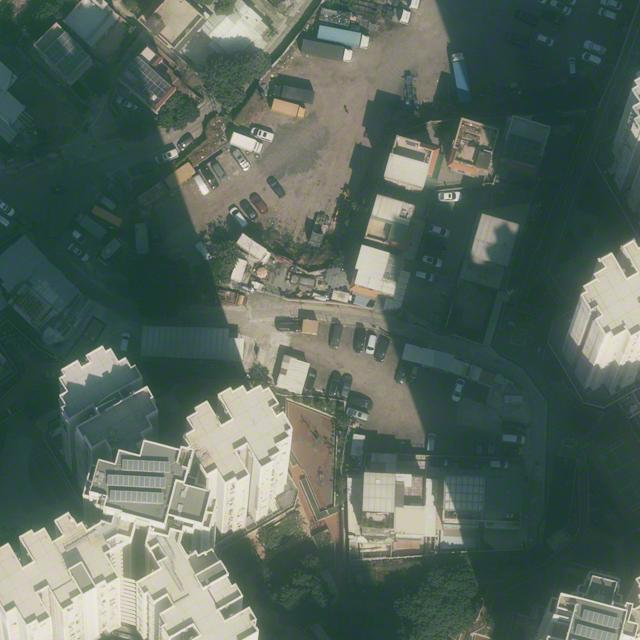panel: (43, 32, 90, 79), (126, 56, 172, 99), (107, 474, 166, 489), (109, 490, 164, 505), (582, 609, 621, 630), (121, 459, 171, 473)
